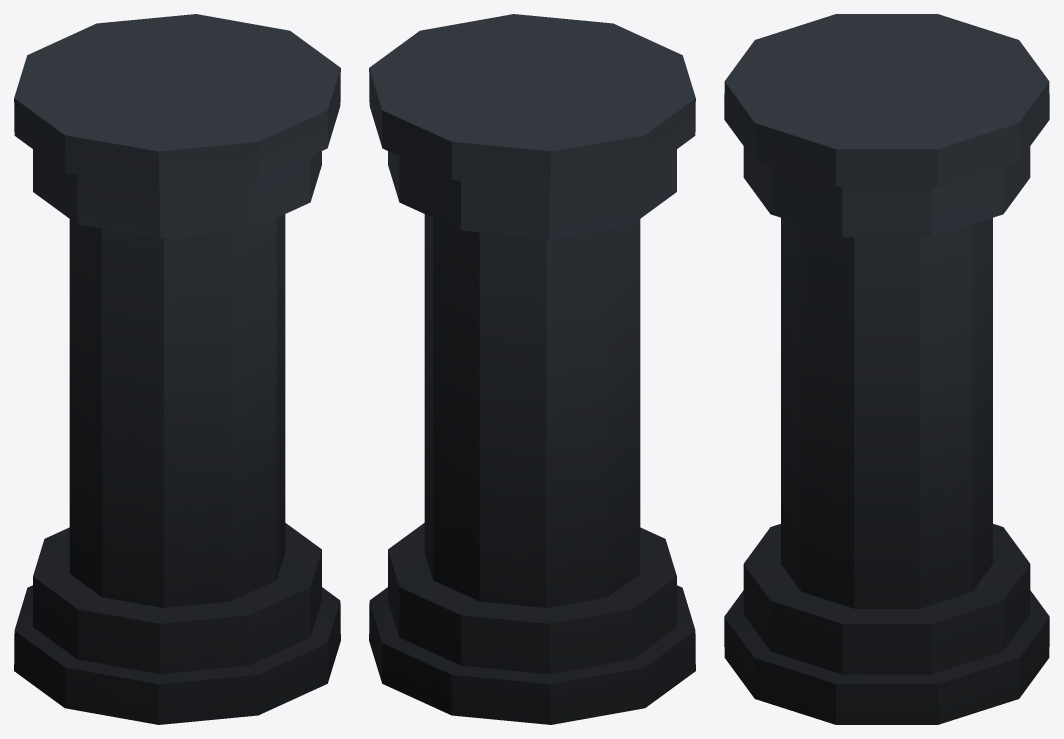
Rendered from Pillar_2.fbx.
The picture shows the model from 3 angles, left to right: view 1: azimuth 30°, elevation 25°; view 2: azimuth 150°, elevation 25°; view 3: azimuth 270°, elevation 25°; orthographic projection.
Visible parts, largest first — view 1: Pillar_2; view 2: Pillar_2; view 3: Pillar_2.
Boxes of the visible parts, bbox=[...] form: Pillar_2: bbox=[14, 14, 340, 724]; Pillar_2: bbox=[369, 14, 695, 724]; Pillar_2: bbox=[724, 14, 1049, 724].
Size of the model in its own units: 181 by 360 by 184.
1 material, 1 textured.
